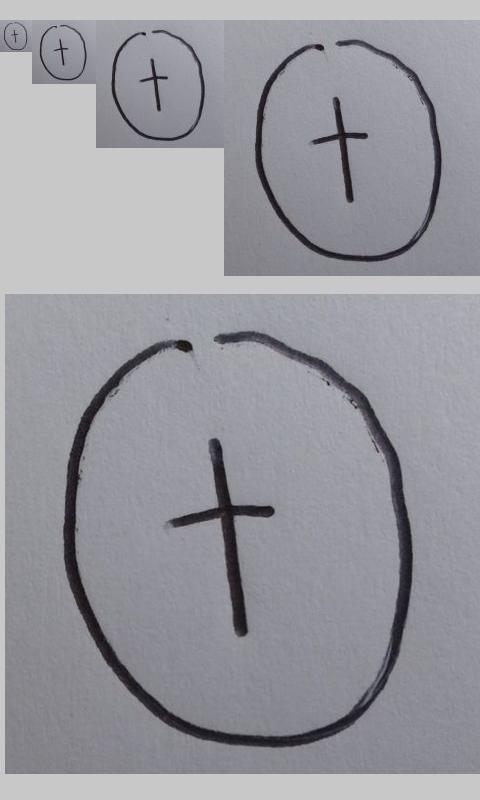button: (62, 330, 412, 748), (253, 38, 443, 262), (111, 29, 207, 142), (39, 24, 87, 81), (3, 22, 28, 51)
